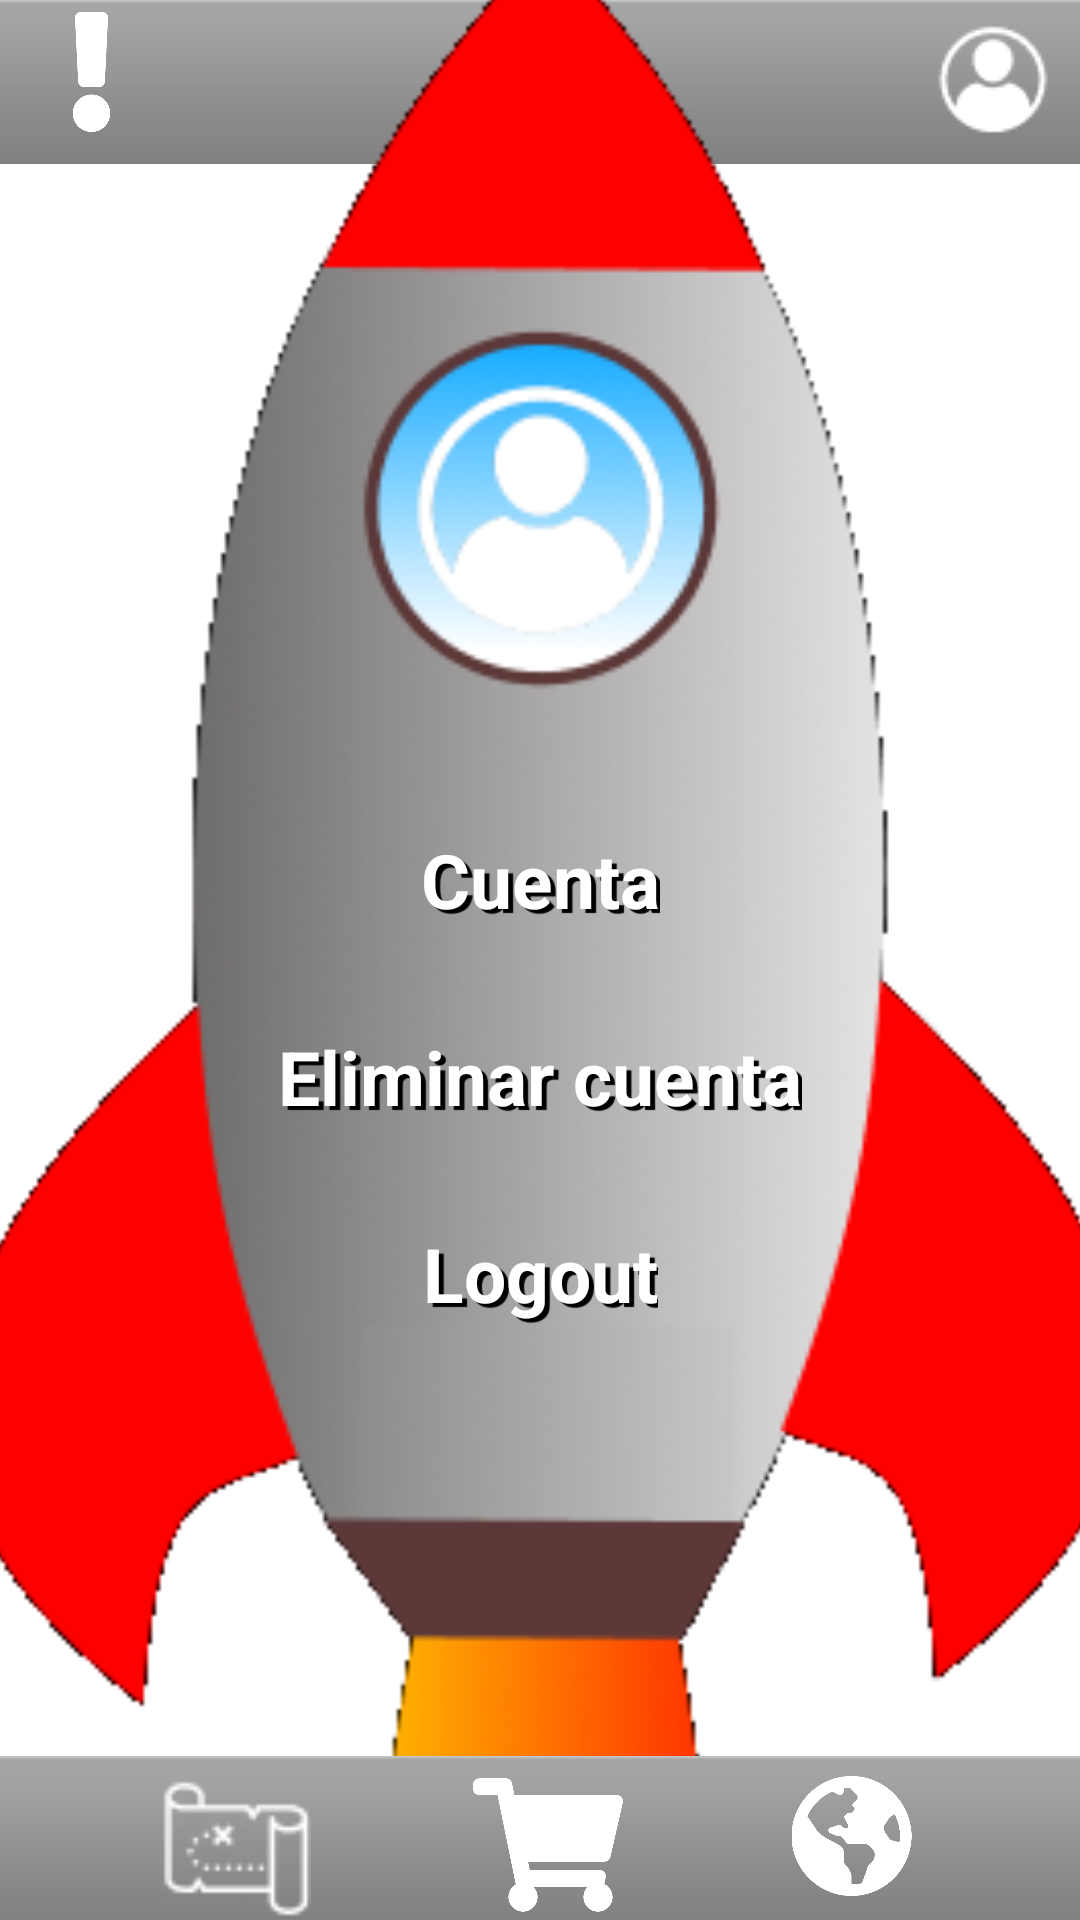

Icons on this 1080*1920 Android screen, each with its box as (left=x1, top=y1, right=x2, bottom=y2):
earthicon: (left=784, top=1776, right=919, bottom=1896)
excla: (left=24, top=12, right=159, bottom=132)
mapawhite: (left=161, top=1781, right=311, bottom=1920)
profile: (left=940, top=26, right=1046, bottom=132)
shoping: (left=473, top=1778, right=623, bottom=1920)
